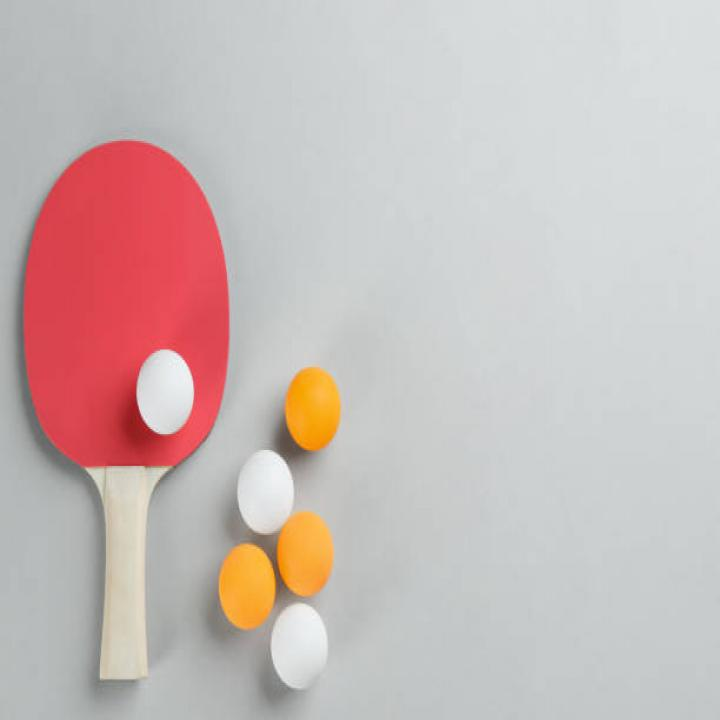orange: (220, 544, 274, 630), (278, 512, 333, 596), (286, 367, 341, 448)
white: (137, 349, 194, 434), (272, 604, 328, 690), (238, 450, 293, 534)
